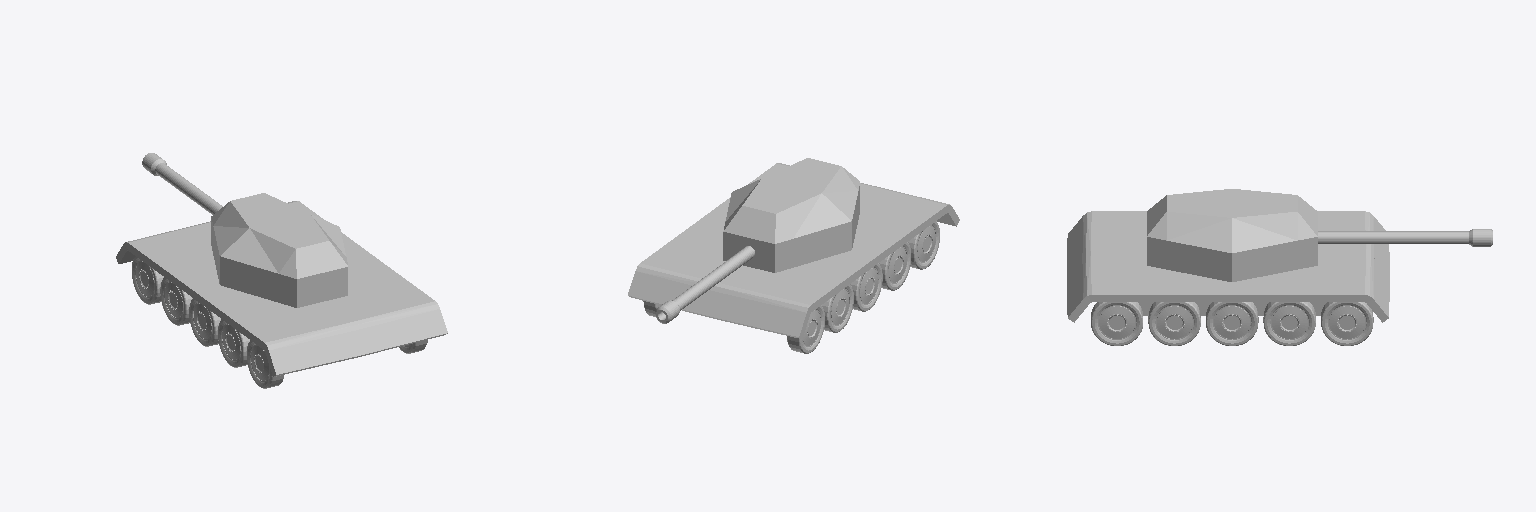
Rendered from tank.obj.
3 renders of one model, left to right at view 1: azimuth 30°, elevation 25°; view 2: azimuth 150°, elevation 25°; view 3: azimuth 270°, elevation 25°, orthographic.
Parts seen in each view (by area): view 1: Cube, Cube.001, Cylinder, Cylinder.010, Cylinder.006, Cylinder.007, Cylinder.008, Cylinder.009; view 2: Cube, Cube.001, Cylinder, Cylinder.006, Cylinder.007, Cylinder.009, Cylinder.010, Cylinder.008; view 3: Cube, Cube.001, Cylinder, Cylinder.001, Cylinder.005, Cylinder.002, Cylinder.004, Cylinder.003.
Boxes of the visible parts, box(x1,y1,x2,y2) form: Cube: box(116, 201, 447, 376); Cube.001: box(211, 193, 347, 307); Cylinder: box(142, 153, 222, 214); Cylinder.010: box(218, 319, 249, 367); Cylinder.006: box(160, 277, 192, 325); Cylinder.007: box(189, 298, 220, 346); Cylinder.008: box(132, 256, 163, 304); Cylinder.009: box(247, 340, 283, 388); Cube: box(628, 163, 959, 338); Cube.001: box(723, 158, 859, 272); Cylinder: box(655, 246, 754, 323); Cylinder.006: box(822, 284, 853, 332); Cylinder.007: box(850, 263, 882, 311); Cylinder.009: box(908, 221, 939, 269); Cylinder.010: box(879, 242, 910, 290); Cylinder.008: box(787, 305, 824, 353); Cube: box(1067, 211, 1389, 322); Cube.001: box(1147, 189, 1317, 281); Cylinder: box(1318, 229, 1492, 246); Cylinder.001: box(1263, 302, 1315, 345); Cylinder.005: box(1148, 302, 1200, 345); Cylinder.002: box(1206, 302, 1258, 345); Cylinder.004: box(1091, 302, 1142, 345); Cylinder.003: box(1321, 302, 1373, 345).
Size of the model in its own units: 6.03 by 3.54 by 12.96.